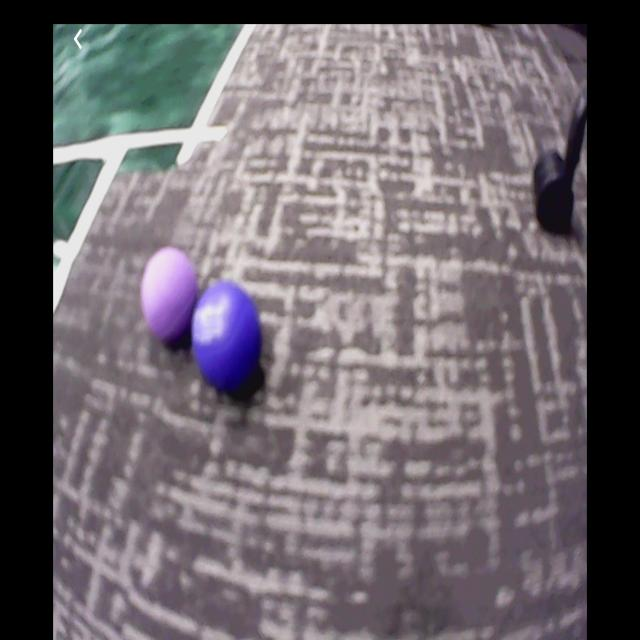ball: (195, 281, 263, 391), (141, 250, 197, 338)
